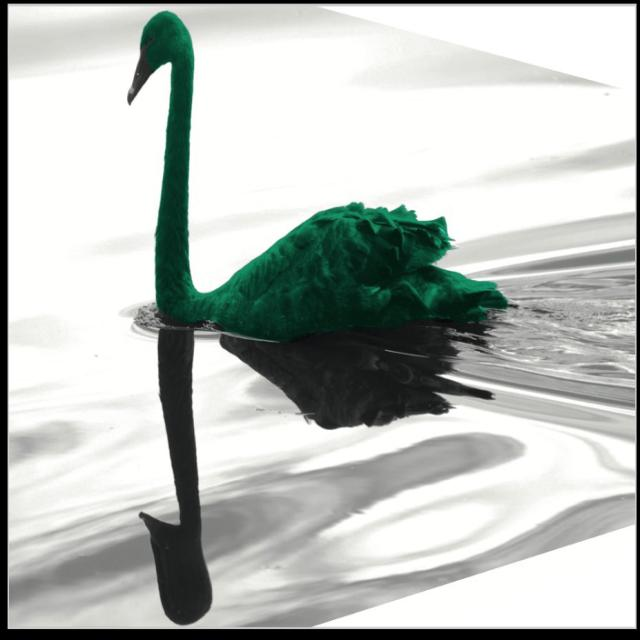swan: (129, 11, 506, 341)
